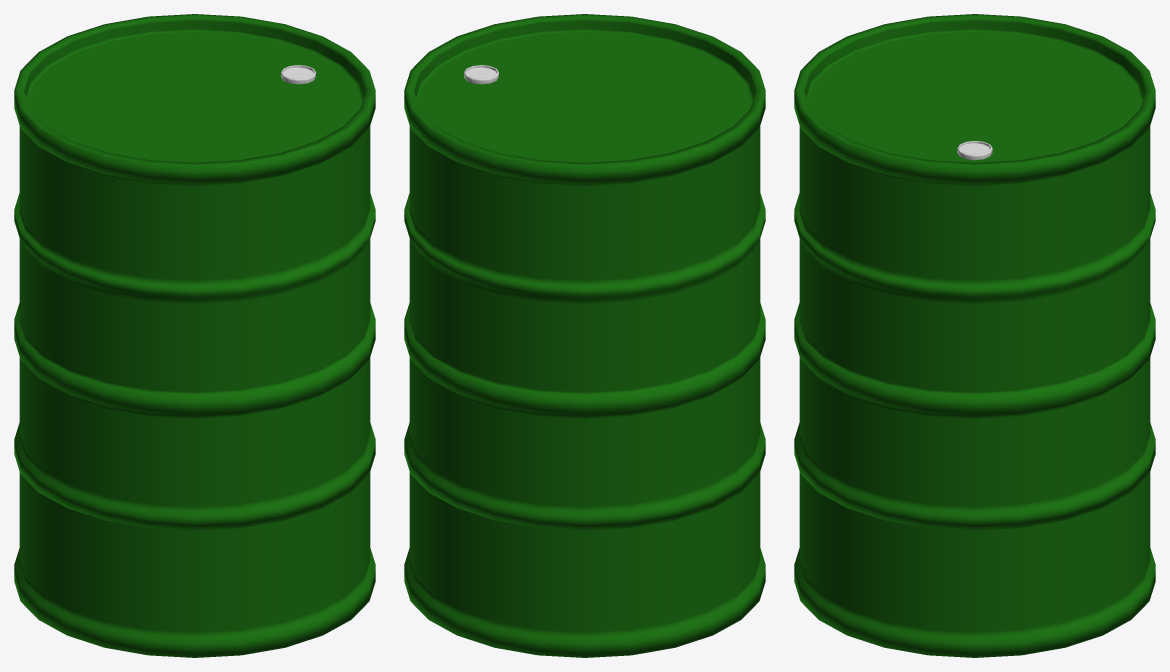
File: fusto.fbx
3 renders of one model, left to right at view 1: azimuth 30°, elevation 25°; view 2: azimuth 150°, elevation 25°; view 3: azimuth 270°, elevation 25°, orthographic.
Parts seen in each view (by area): view 1: Fusto; view 2: Fusto; view 3: Fusto.
Part boxes in pixels (box(x1,y1,x2,y2)): Fusto: box(14, 14, 375, 657); Fusto: box(404, 14, 765, 657); Fusto: box(794, 14, 1155, 657).
Bounding box in the file's own units: 100 × 150 × 100.
